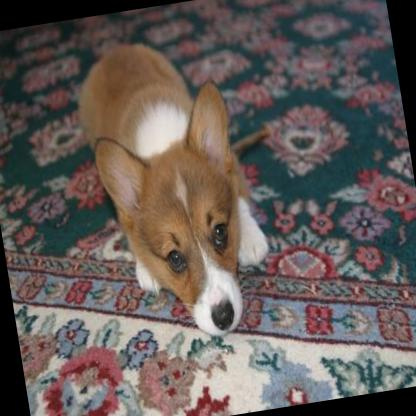Pembroke: (66, 25, 282, 354)
